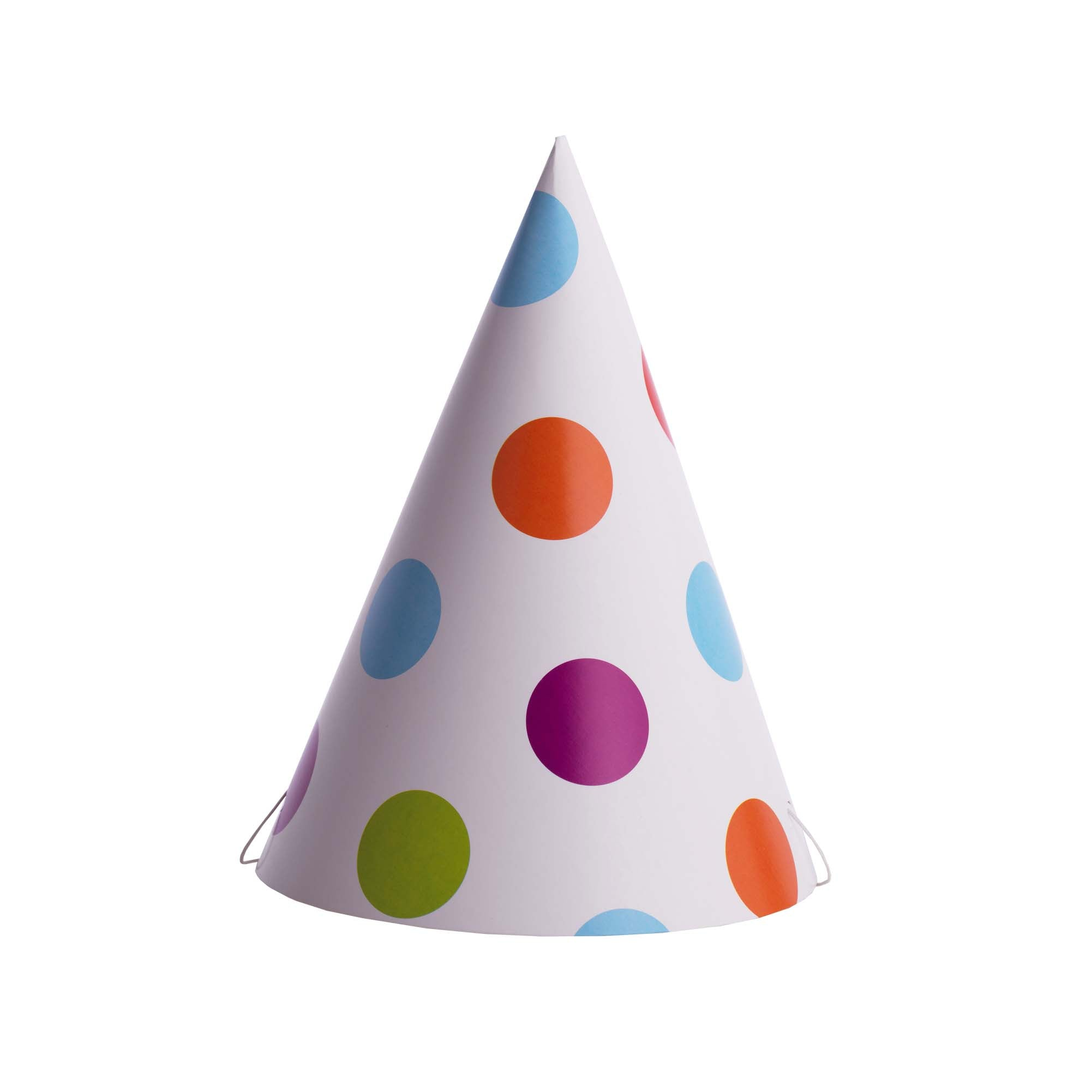cone: (254, 136, 816, 938)
